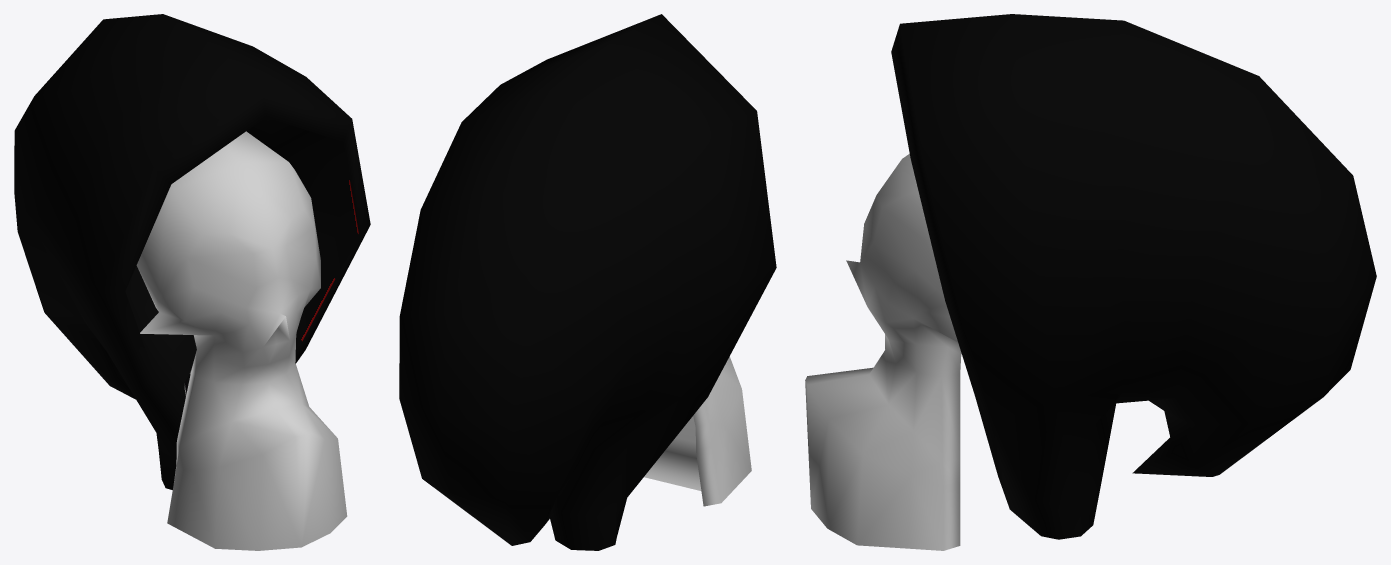
The model's file is grim_cabeza.obj.
3 renders of one model, left to right at view 1: azimuth 30°, elevation 25°; view 2: azimuth 150°, elevation 25°; view 3: azimuth 270°, elevation 25°, orthographic. The views are drawn at different scales.
Parts seen in each view (by area): view 1: cabeza; view 2: cabeza; view 3: cabeza.
Part boxes in pixels (<box>): cabeza: <box>14,14,370,550</box>; cabeza: <box>399,14,776,550</box>; cabeza: <box>805,14,1376,550</box>.
Size of the model in its own units: 1.47 by 2.36 by 2.39.
